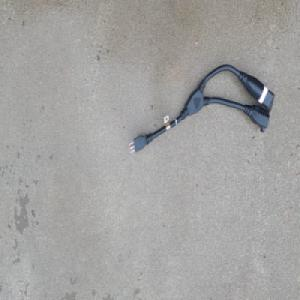Wire: (127, 61, 276, 154)
